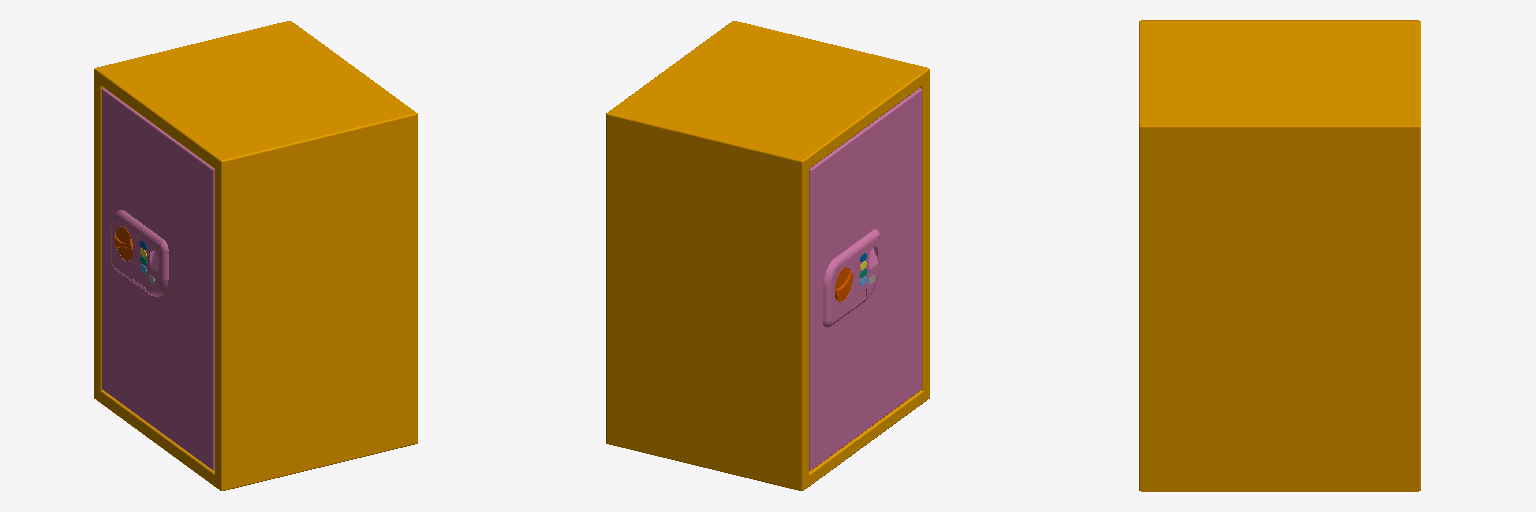
robot.urdf — partnet_4beb4d6e-480c-4edd-a82d-5374471a95a0:
<?xml version="1.0" ?>
<robot name="partnet_4beb4d6e-480c-4edd-a82d-5374471a95a0">
	<link name="base"/>
	<link name="link_0">
		<visual name="button-2">
			<origin xyz="0.06422751455598527 -0.07856796176422805 -0.4677340000000001"/>
			<geometry>
				<mesh filename="textured_objs/original-13.obj"/>
			</geometry>
		</visual>
		<collision>
			<origin xyz="0.06422751455598527 -0.07856796176422805 -0.4677340000000001"/>
			<geometry>
				<mesh filename="textured_objs/original-13.obj"/>
			</geometry>
		</collision>
	</link>
	<joint name="joint_0" type="prismatic">
		<origin xyz="-0.5258874449243504 -0.6437760382357719 0.04794039730449773"/>
		<axis xyz="0 0 -1"/>
		<child link="link_0"/>
		<parent link="link_5"/>
		<limit lower="0" upper="0.003"/>
	</joint>
	<link name="link_1">
		<visual name="button-3">
			<origin xyz="0.06422751455598527 -0.07856796176422805 -0.4677340000000001"/>
			<geometry>
				<mesh filename="textured_objs/original-12.obj"/>
			</geometry>
		</visual>
		<collision>
			<origin xyz="0.06422751455598527 -0.07856796176422805 -0.4677340000000001"/>
			<geometry>
				<mesh filename="textured_objs/original-12.obj"/>
			</geometry>
		</collision>
	</link>
	<joint name="joint_1" type="prismatic">
		<origin xyz="-0.5258874449243504 -0.6437760382357719 0.04794039730449773"/>
		<axis xyz="0 0 -1"/>
		<child link="link_1"/>
		<parent link="link_5"/>
		<limit lower="0" upper="0.003"/>
	</joint>
	<link name="link_2">
		<visual name="button-4">
			<origin xyz="0.06422751455598527 -0.07856796176422805 -0.4677340000000001"/>
			<geometry>
				<mesh filename="textured_objs/original-11.obj"/>
			</geometry>
		</visual>
		<collision>
			<origin xyz="0.06422751455598527 -0.07856796176422805 -0.4677340000000001"/>
			<geometry>
				<mesh filename="textured_objs/original-11.obj"/>
			</geometry>
		</collision>
	</link>
	<joint name="joint_2" type="prismatic">
		<origin xyz="-0.5258874449243504 -0.6437760382357719 0.04794039730449773"/>
		<axis xyz="0 0 -1"/>
		<child link="link_2"/>
		<parent link="link_5"/>
		<limit lower="0" upper="0.003"/>
	</joint>
	<link name="link_3">
		<visual name="button-5">
			<origin xyz="0.06422751455598527 -0.07856796176422805 -0.4677340000000001"/>
			<geometry>
				<mesh filename="textured_objs/original-10.obj"/>
			</geometry>
		</visual>
		<collision>
			<origin xyz="0.06422751455598527 -0.07856796176422805 -0.4677340000000001"/>
			<geometry>
				<mesh filename="textured_objs/original-10.obj"/>
			</geometry>
		</collision>
	</link>
	<joint name="joint_3" type="prismatic">
		<origin xyz="-0.5258874449243504 -0.6437760382357719 0.04794039730449773"/>
		<axis xyz="0 0 -1"/>
		<child link="link_3"/>
		<parent link="link_5"/>
		<limit lower="0" upper="0.003"/>
	</joint>
	<link name="link_4">
		<visual name="switch-6">
			<origin xyz="0.2235718020215831 -0.058351672303546216 -0.47118293745187456"/>
			<geometry>
				<mesh filename="textured_objs/original-6.obj"/>
			</geometry>
		</visual>
		<collision>
			<origin xyz="0.2235718020215831 -0.058351672303546216 -0.47118293745187456"/>
			<geometry>
				<mesh filename="textured_objs/original-6.obj"/>
			</geometry>
		</collision>
	</link>
	<joint name="joint_4" type="continuous">
		<origin xyz="-0.6852317323899482 -0.6639923276964538 0.051389334756372196"/>
		<axis xyz="0 0 -0.7932904066407027"/>
		<child link="link_4"/>
		<parent link="link_5"/>
	</joint>
	<link name="link_5">
		<visual name="door-7">
			<origin xyz="-0.46165993036836506 -0.722344 -0.41979360269550237"/>
			<geometry>
				<mesh filename="textured_objs/original-3.obj"/>
			</geometry>
		</visual>
		<visual name="door-7">
			<origin xyz="-0.46165993036836506 -0.722344 -0.41979360269550237"/>
			<geometry>
				<mesh filename="textured_objs/original-5.obj"/>
			</geometry>
		</visual>
		<visual name="door-7">
			<origin xyz="-0.46165993036836506 -0.722344 -0.41979360269550237"/>
			<geometry>
				<mesh filename="textured_objs/original-15.obj"/>
			</geometry>
		</visual>
		<visual name="door-7">
			<origin xyz="-0.46165993036836506 -0.722344 -0.41979360269550237"/>
			<geometry>
				<mesh filename="textured_objs/original-9.obj"/>
			</geometry>
		</visual>
		<visual name="door-7">
			<origin xyz="-0.46165993036836506 -0.722344 -0.41979360269550237"/>
			<geometry>
				<mesh filename="textured_objs/original-8.obj"/>
			</geometry>
		</visual>
		<collision>
			<origin xyz="-0.46165993036836506 -0.722344 -0.41979360269550237"/>
			<geometry>
				<mesh filename="textured_objs/original-3.obj"/>
			</geometry>
		</collision>
		<collision>
			<origin xyz="-0.46165993036836506 -0.722344 -0.41979360269550237"/>
			<geometry>
				<mesh filename="textured_objs/original-5.obj"/>
			</geometry>
		</collision>
		<collision>
			<origin xyz="-0.46165993036836506 -0.722344 -0.41979360269550237"/>
			<geometry>
				<mesh filename="textured_objs/original-15.obj"/>
			</geometry>
		</collision>
		<collision>
			<origin xyz="-0.46165993036836506 -0.722344 -0.41979360269550237"/>
			<geometry>
				<mesh filename="textured_objs/original-9.obj"/>
			</geometry>
		</collision>
		<collision>
			<origin xyz="-0.46165993036836506 -0.722344 -0.41979360269550237"/>
			<geometry>
				<mesh filename="textured_objs/original-8.obj"/>
			</geometry>
		</collision>
	</link>
	<joint name="joint_5" type="revolute">
		<origin xyz="0.46165993036836506 0.722344 0.41979360269550237"/>
		<axis xyz="0 1 0"/>
		<child link="link_5"/>
		<parent link="link_7"/>
		<limit lower="-0.0" upper="3.141592653589793"/>
	</joint>
	<link name="link_6">
		<visual name="button-8">
			<origin xyz="0.06422751455598527 -0.07856796176422805 -0.4677340000000001"/>
			<geometry>
				<mesh filename="textured_objs/original-14.obj"/>
			</geometry>
		</visual>
		<collision>
			<origin xyz="0.06422751455598527 -0.07856796176422805 -0.4677340000000001"/>
			<geometry>
				<mesh filename="textured_objs/original-14.obj"/>
			</geometry>
		</collision>
	</link>
	<joint name="joint_6" type="prismatic">
		<origin xyz="-0.5258874449243504 -0.6437760382357719 0.04794039730449773"/>
		<axis xyz="0 0 -1"/>
		<child link="link_6"/>
		<parent link="link_5"/>
		<limit lower="0" upper="0.003"/>
	</joint>
	<link name="link_7">
		<visual name="base_body-9">
			<origin xyz="0 0 0"/>
			<geometry>
				<mesh filename="textured_objs/original-2.obj"/>
			</geometry>
		</visual>
		<visual name="base_body-9">
			<origin xyz="0 0 0"/>
			<geometry>
				<mesh filename="textured_objs/original-7.obj"/>
			</geometry>
		</visual>
		<visual name="base_body-9">
			<origin xyz="0 0 0"/>
			<geometry>
				<mesh filename="textured_objs/original-1.obj"/>
			</geometry>
		</visual>
		<collision>
			<origin xyz="0 0 0"/>
			<geometry>
				<mesh filename="textured_objs/original-2.obj"/>
			</geometry>
		</collision>
		<collision>
			<origin xyz="0 0 0"/>
			<geometry>
				<mesh filename="textured_objs/original-7.obj"/>
			</geometry>
		</collision>
		<collision>
			<origin xyz="0 0 0"/>
			<geometry>
				<mesh filename="textured_objs/original-1.obj"/>
			</geometry>
		</collision>
	</link>
	<joint name="joint_7" type="fixed">
		<origin rpy="1.570796326794897 0 -1.570796326794897" xyz="0 0 0"/>
		<child link="link_7"/>
		<parent link="base"/>
	</joint>
</robot>

--- Facts derived from the render (not from the file) ---
The picture shows the robot from 3 angles, left to right: view 1: azimuth 30°, elevation 25°; view 2: azimuth 150°, elevation 25°; view 3: azimuth 270°, elevation 25°; orthographic projection.
Robot: partnet_4beb4d6e-480c-4edd-a82d-5374471a95a0 — 9 links, 8 joints (1 revolute, 1 continuous, 5 prismatic, 1 fixed); root link base; default pose: all joints at 0.
Visible links, largest first — view 1: link_7, link_5; view 2: link_7, link_5; view 3: link_7.
Boxes of the visible links, bbox=[...] form: link_7: bbox=[94, 21, 417, 490]; link_5: bbox=[102, 88, 214, 470]; link_7: bbox=[606, 21, 929, 490]; link_5: bbox=[809, 88, 921, 470]; link_7: bbox=[1139, 20, 1420, 491].
Size in the robot's own frame: 0.9551 by 1.04 by 1.48 metres.
14 mesh visuals loaded from 14 distinct referenced files (14 OBJ).
